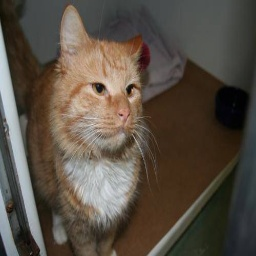cat: (18, 4, 153, 256)
